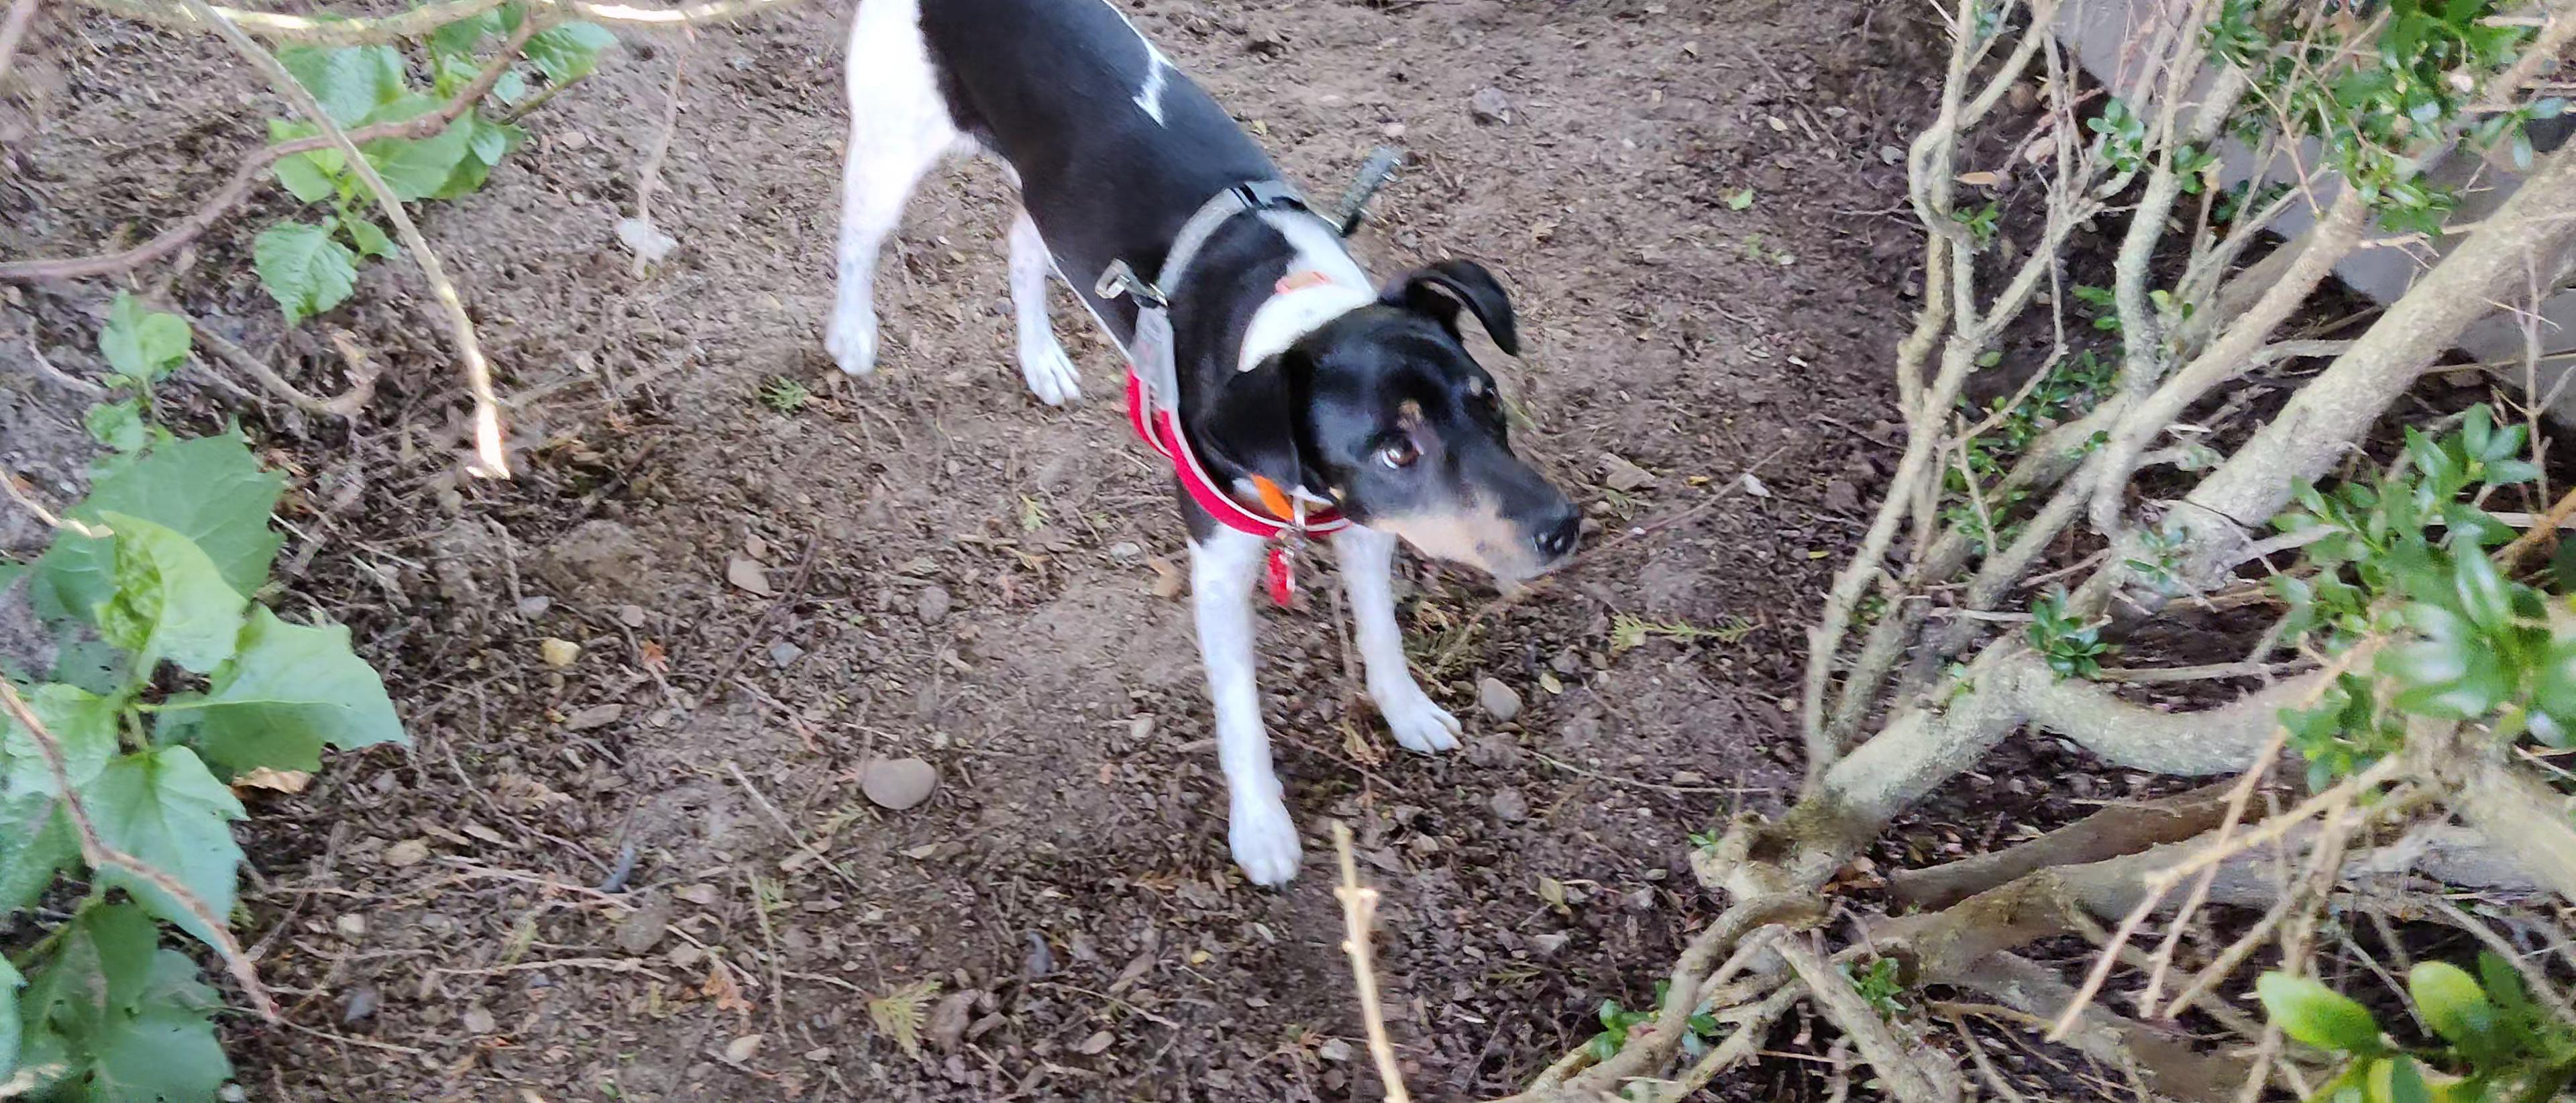Dog: (812, 0, 1590, 902)
